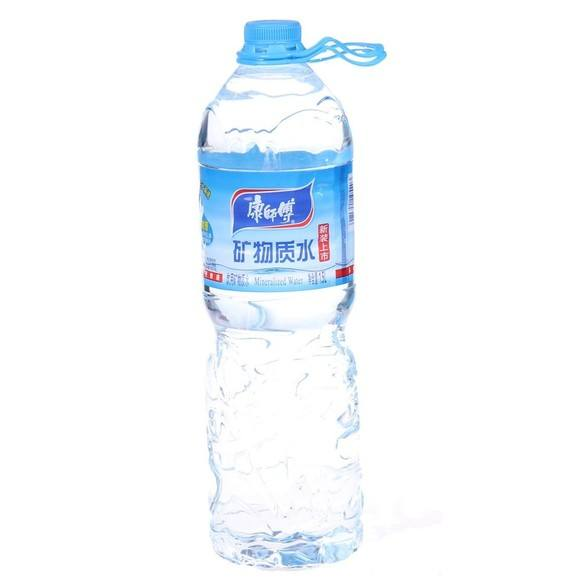amwater: (177, 10, 400, 567)
